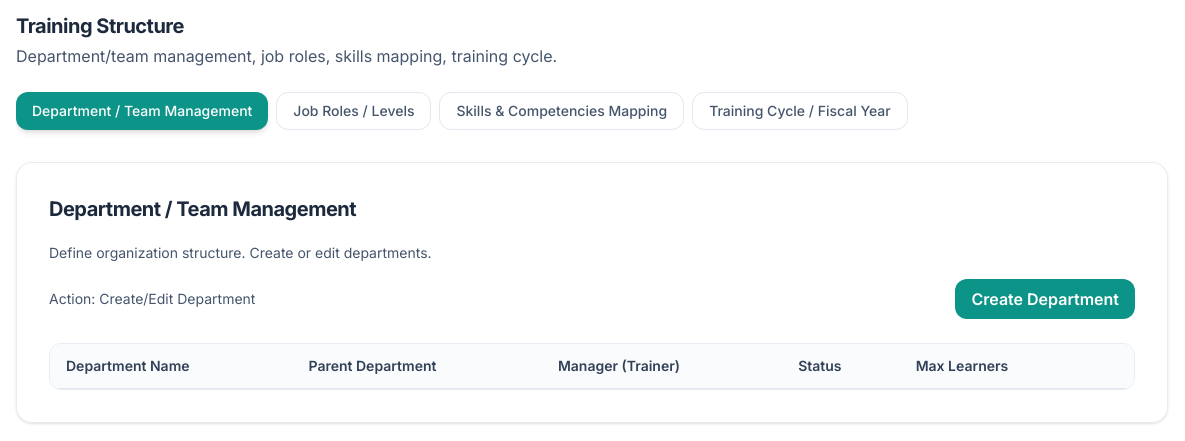
Test: AcademicSetup – tab switching › switches to Training Cycle tab when clicked
Click the button "Training Cycle / Fiscal Year": click(800, 111) [692, 92, 908, 130]
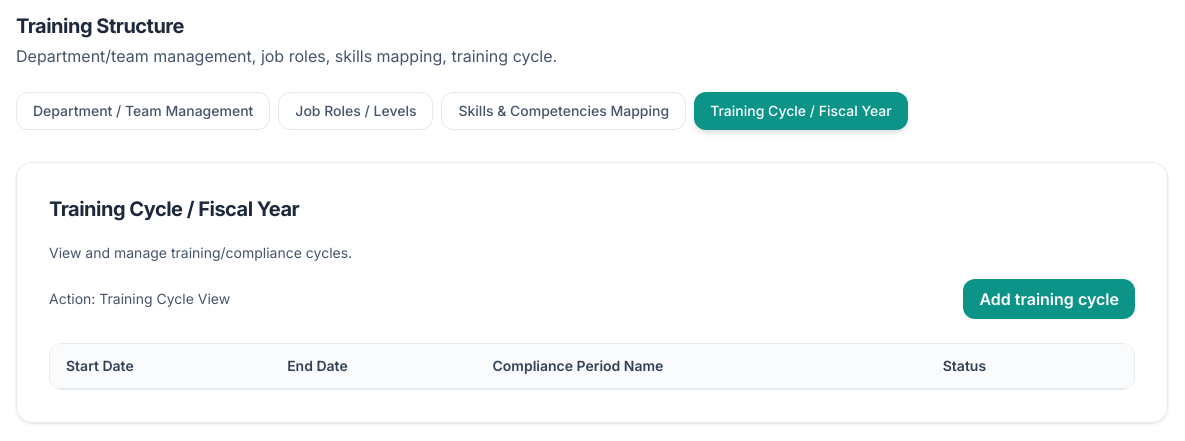
Check: the button "Add training cycle" is shown, box [964, 279, 1135, 319]
Check: the column heading "Start Date" is shown, box [50, 344, 271, 388]
